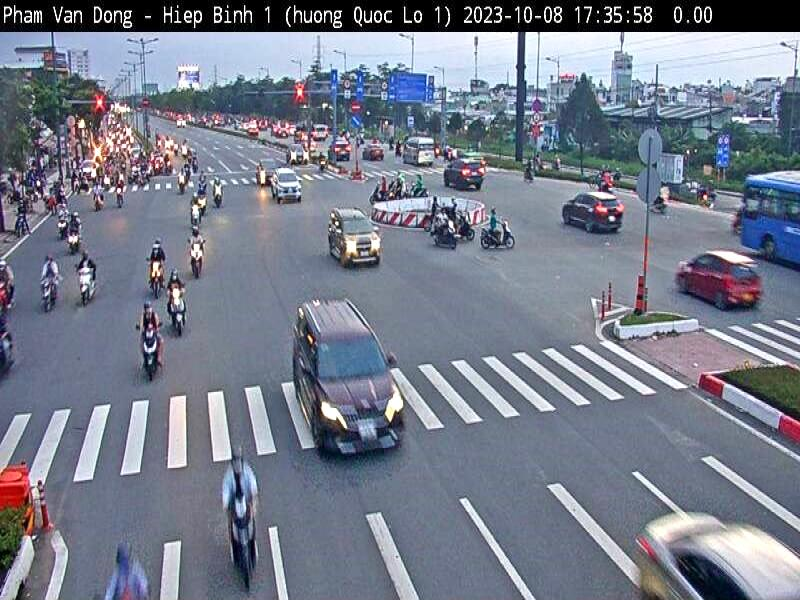car: (324, 200, 383, 270)
